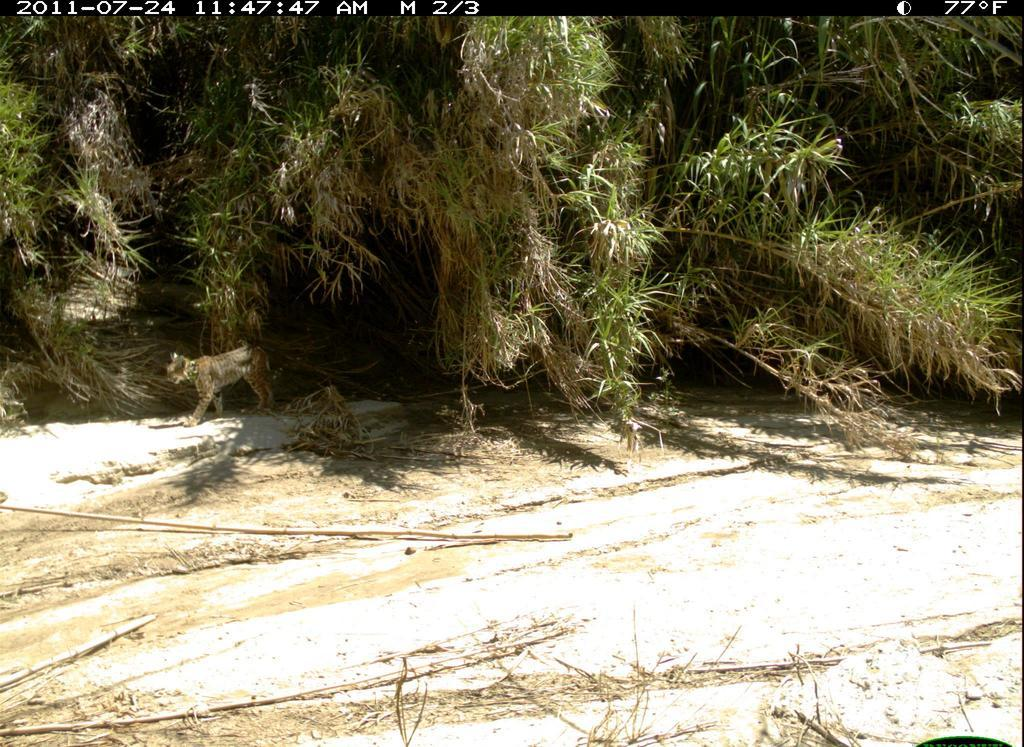bobcat: (159, 337, 288, 431)
